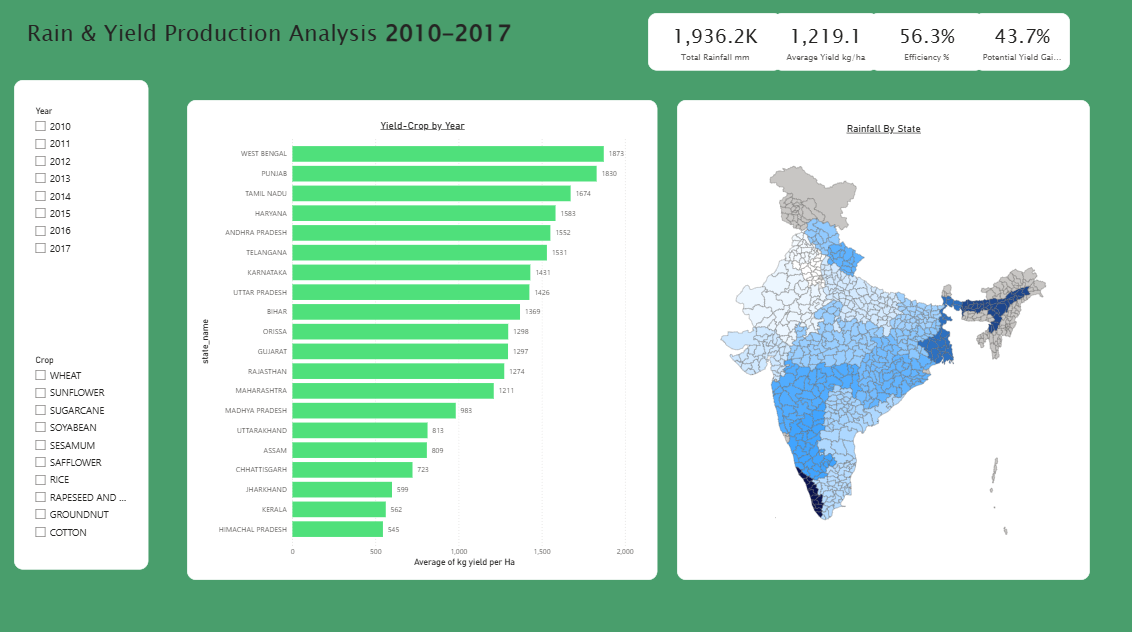

The dashboard page shown, as its layout file describes it:
{"tool":"powerbi","page":{"name":"Rain & Yield Analysis","canvas":[1920,1080],"ordinal":2},"visuals":[{"type":"shape","box":[320,176,784,800],"z":0},{"type":"shape","box":[1136,176,688,800],"z":1000},{"type":"shape","box":[32,144,224,816],"z":2000},{"type":"card","fields":{"Values":["Avg(vw_production_yield.kg yield per Ha)"]},"box":[1296,32,176,96],"z":3000},{"type":"card","fields":{"Values":["vw_loss.Efficiency"]},"box":[1456,32,192,96],"z":4000},{"type":"card","fields":{"Values":["vw_loss.Potential Yield Gain %"]},"box":[1632,32,160,96],"z":5000},{"type":"card","fields":{"Values":["Sum(vw_rainfallYield.rainfall)"]},"box":[1088,32,224,96],"z":6000},{"type":"slicer","fields":{"Values":["DimYear.Year"]},"box":[48,176,192,272],"z":7000},{"type":"slicer","fields":{"Values":["DimCrop.Crop"]},"box":[48,592,192,336],"z":8000},{"type":"shapeMap","title":"Rainfall By State","fields":{"Category":["DimState.State"],"Value":["Sum(vw_rainfallYield.rainfall)"]},"box":[1168,208,624,752],"z":9000},{"type":"textbox","box":[48,32,1024,80],"z":10000},{"type":"barChart","title":"Yield-Crop by Year","fields":{"Category":["vw_production_yield.state_name"],"Y":["Avg(vw_production_yield.kg yield per Ha)"]},"box":[336,208,752,752],"z":11000}]}

Visuals, with their boxes in screenshot pixels (x1, y1, x2, y2), scaled from the page's 1920x1080 canvas onto the 1132x632 screenshot:
shape: box=[189, 103, 651, 571]
shape: box=[670, 103, 1075, 571]
shape: box=[19, 84, 151, 562]
card - Avg(vw_production_yield.kg yield per Ha): box=[764, 19, 868, 75]
card - vw_loss.Efficiency: box=[858, 19, 972, 75]
card - vw_loss.Potential Yield Gain %: box=[962, 19, 1057, 75]
card - Sum(vw_rainfallYield.rainfall): box=[641, 19, 774, 75]
slicer - DimYear.Year: box=[28, 103, 142, 262]
slicer - DimCrop.Crop: box=[28, 346, 142, 543]
"Rainfall By State" shapeMap: box=[689, 122, 1057, 562]
textbox: box=[28, 19, 632, 66]
"Yield-Crop by Year" barChart: box=[198, 122, 641, 562]
